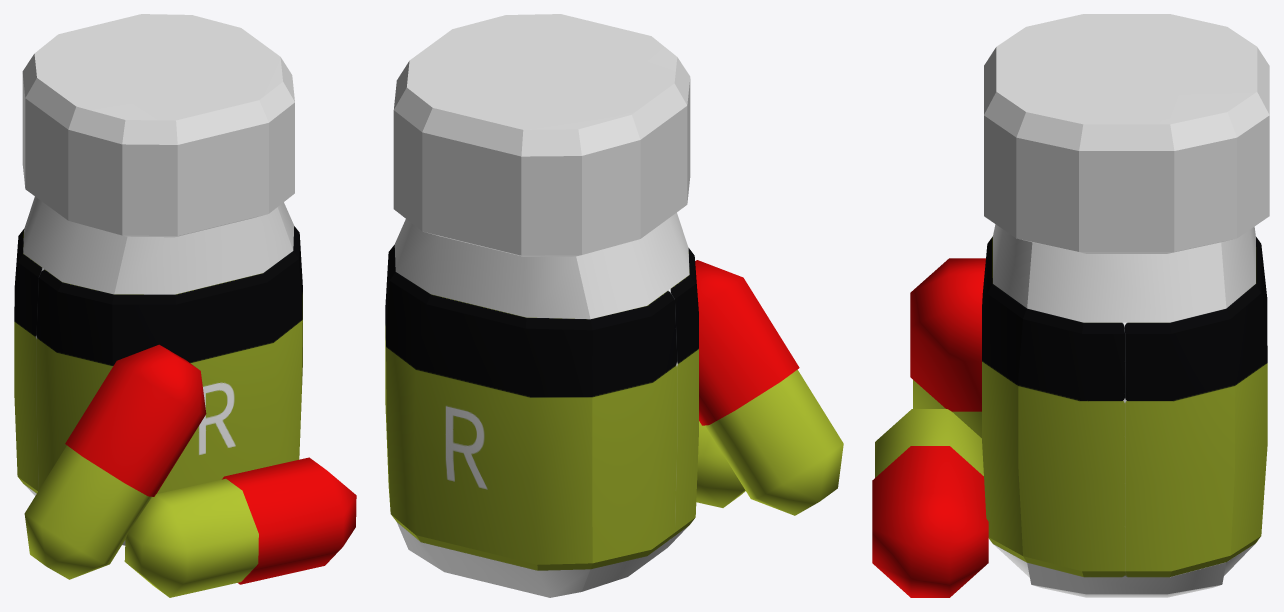
File: Risperidon.fbx
The picture shows the model from 3 angles, left to right: view 1: azimuth 30°, elevation 25°; view 2: azimuth 150°, elevation 25°; view 3: azimuth 270°, elevation 25°; orthographic projection. The views are drawn at different scales.
Parts seen in each view (by area): view 1: polySurface2, polySurface1, pCube1, pasted__pCube1; view 2: polySurface2, polySurface1, pCube1, pasted__pCube1; view 3: polySurface2, polySurface1, pasted__pCube1, pCube1.
Part boxes in pixels (bbox=[...]): polySurface2: bbox=[22, 14, 294, 545]; polySurface1: bbox=[14, 226, 302, 498]; pCube1: bbox=[24, 344, 206, 579]; pasted__pCube1: bbox=[124, 457, 356, 597]; polySurface2: bbox=[393, 14, 690, 597]; polySurface1: bbox=[385, 245, 698, 570]; pCube1: bbox=[695, 260, 843, 515]; pasted__pCube1: bbox=[696, 421, 745, 507]; polySurface2: bbox=[984, 14, 1269, 597]; polySurface1: bbox=[982, 236, 1267, 577]; pasted__pCube1: bbox=[872, 409, 988, 597]; pCube1: bbox=[910, 258, 985, 438].
Size of the model in its own units: 1.67 by 2.22 by 1.62.
5 materials, 1 textured.
